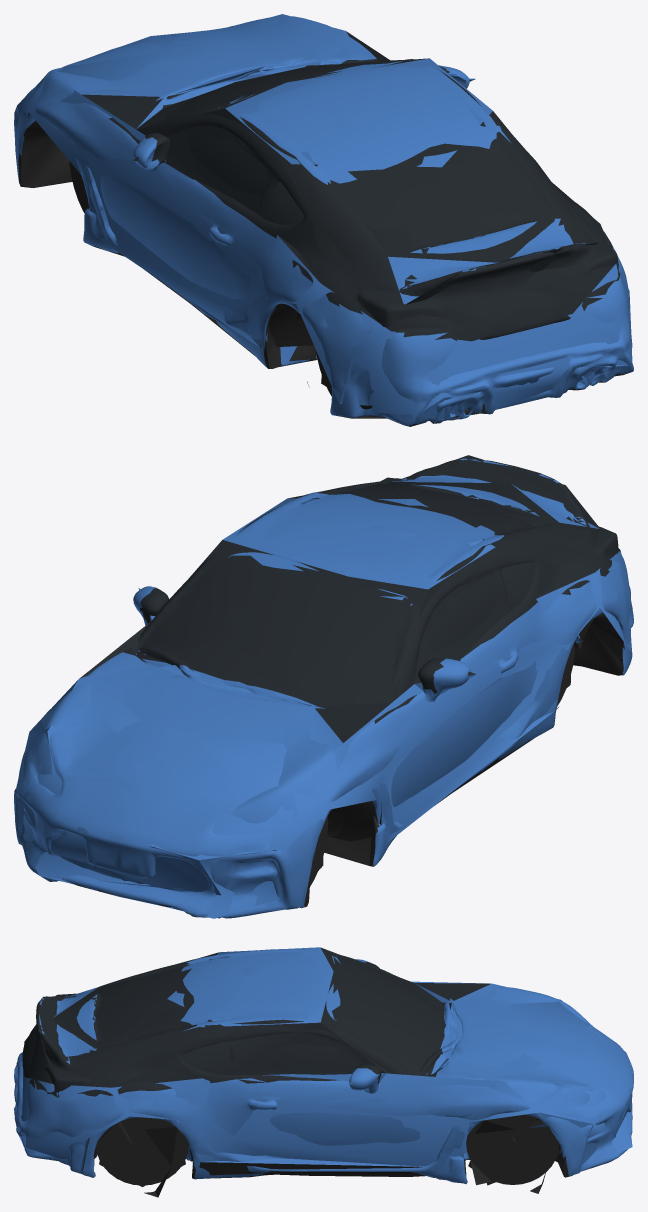
The model's file is toyota-gr86.glb.
3 renders of one model, top to bottom at view 1: azimuth 30°, elevation 25°; view 2: azimuth 150°, elevation 25°; view 3: azimuth 270°, elevation 25°, orthographic. The views are drawn at different scales.
Parts seen in each view (by area): view 1: body, far; view 2: body, far; view 3: body, far.
Boxes of the visible parts, box(x1,y1,x2,y2) form: body: box(14, 16, 633, 426); far: box(17, 14, 632, 419); body: box(14, 458, 633, 918); far: box(16, 455, 632, 918); body: box(14, 949, 633, 1197); far: box(15, 947, 632, 1197).
Size of the model in its own units: 2.06 by 1.3 by 4.31.
